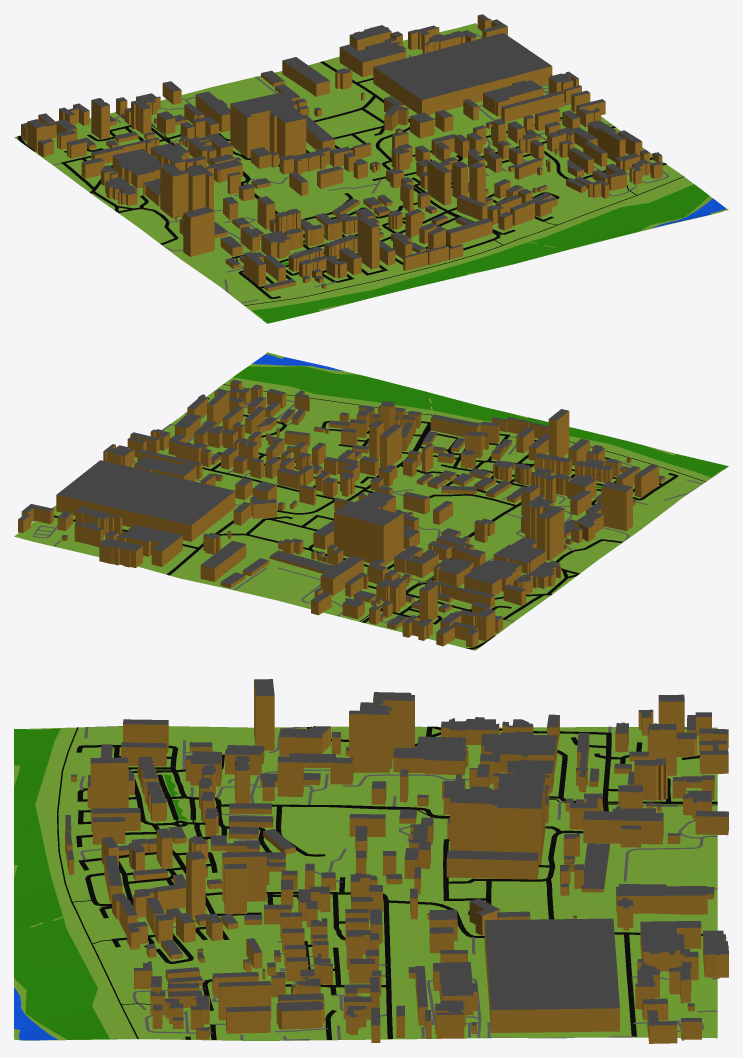
The model's file is tile_04_01.glb.
The picture shows the model from 3 angles, top to bottom: view 1: azimuth 30°, elevation 25°; view 2: azimuth 150°, elevation 25°; view 3: azimuth 270°, elevation 25°; orthographic projection. The views are drawn at different scales.
Parts seen in each view (by area): view 1: Ub_small.osm_buildings_04_01, Terrain_04_01, Ub_small.osm_vegetation_04_01, Ub_small.osm_roads_residential_04_01, Ub_small.osm_roads_service_04_01, Ub_small.osm_paths_footway_04_01; view 2: Ub_small.osm_buildings_04_01, Terrain_04_01, Ub_small.osm_vegetation_04_01, Ub_small.osm_roads_residential_04_01, Ub_small.osm_roads_service_04_01, Ub_small.osm_water_04_01; view 3: Ub_small.osm_buildings_04_01, Terrain_04_01, Ub_small.osm_vegetation_04_01, Ub_small.osm_roads_residential_04_01, Ub_small.osm_roads_service_04_01, Ub_small.osm_paths_footway_04_01, Ub_small.osm_roads_unclassified_04_01, Ub_small.osm_water_04_01.
Boxes of the visible parts, <box> form: Ub_small.osm_buildings_04_01: <box>21,14,662,291</box>; Terrain_04_01: <box>14,23,728,319</box>; Ub_small.osm_vegetation_04_01: <box>252,184,709,323</box>; Ub_small.osm_roads_residential_04_01: <box>17,95,666,298</box>; Ub_small.osm_roads_service_04_01: <box>52,30,668,303</box>; Ub_small.osm_paths_footway_04_01: <box>151,124,684,305</box>; Ub_small.osm_buildings_04_01: <box>18,379,665,647</box>; Terrain_04_01: <box>14,352,723,650</box>; Ub_small.osm_vegetation_04_01: <box>233,366,728,488</box>; Ub_small.osm_roads_residential_04_01: <box>170,398,677,649</box>; Ub_small.osm_roads_service_04_01: <box>32,390,702,622</box>; Ub_small.osm_water_04_01: <box>252,354,343,370</box>; Ub_small.osm_buildings_04_01: <box>65,679,728,1043</box>; Terrain_04_01: <box>14,726,717,1040</box>; Ub_small.osm_vegetation_04_01: <box>14,728,187,1039</box>; Ub_small.osm_roads_residential_04_01: <box>76,726,717,1039</box>; Ub_small.osm_roads_service_04_01: <box>79,726,717,1040</box>; Ub_small.osm_paths_footway_04_01: <box>57,727,717,1038</box>; Ub_small.osm_roads_unclassified_04_01: <box>387,900,702,1036</box>; Ub_small.osm_water_04_01: <box>14,987,57,1040</box>.
Bounding box in the file's own units: 994 × 89.52 × 945.
